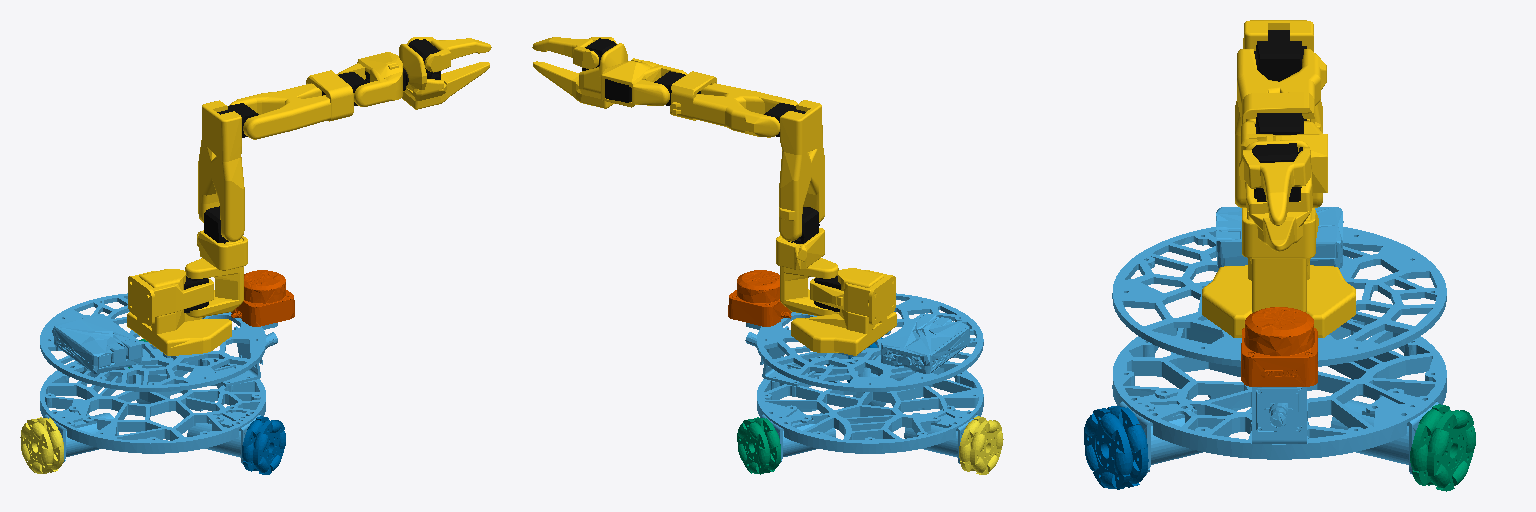
robot.urdf — mmr_bot:
<?xml version="1.0"?>
<robot name="mmr_bot">
  <link name="base_footprint" />
  <joint name="base_footprint_joint" type="fixed">
    <origin xyz="0 0 0.045" rpy="0 0 0" />
    <parent link="base_footprint" />
    <child link="base_link" />
  </joint>
  <link name="base_link">
    <visual>
      <origin xyz="0 0 0" rpy="0 0 0" />
      <geometry>
        <mesh filename="package://mmr_pkg/meshes/visual/base_link.obj" />
      </geometry>
    </visual>
    <collision>
      <origin xyz="0 0 0.006" rpy="0 0 0" />
      <geometry>
        <cylinder radius="0.12" length="0.012" />
      </geometry>
    </collision>
    <collision>
      <origin xyz="0 0 0.0745" rpy="0 0 0" />
      <geometry>
        <cylinder radius="0.12" length="0.005" />
      </geometry>
    </collision>
    <collision>
      <origin xyz="0 0 0" rpy="0 0 1.0471975511965976" />
      <geometry>
        <mesh filename="package://mmr_pkg/meshes/collision/motor_pod.stl" />
      </geometry>
    </collision>
    <collision>
      <origin xyz="0 0 0" rpy="0 0 3.141592653589793" />
      <geometry>
        <mesh filename="package://mmr_pkg/meshes/collision/motor_pod.stl" />
      </geometry>
    </collision>
    <collision>
      <origin xyz="0 0 0" rpy="0 0 5.235987755982989" />
      <geometry>
        <mesh filename="package://mmr_pkg/meshes/collision/motor_pod.stl" />
      </geometry>
    </collision>
    <collision>
      <origin xyz="0 0 0" rpy="0 0 0" />
      <geometry>
        <mesh filename="package://mmr_pkg/meshes/collision/camera_pod.stl" />
      </geometry>
    </collision>
    <collision>
      <origin xyz="0 0 0" rpy="0 0 0" />
      <geometry>
        <mesh filename="package://mmr_pkg/meshes/collision/pi_stack.stl" />
      </geometry>
    </collision>
  </link>
  <joint name="wheel_0_joint" type="continuous">
    <origin xyz="0.06775000000000002                    0.11734644221279143                    -0.015" rpy="0 0 1.0471975511965976" />
    <parent link="base_link" />
    <child link="wheel_0_link" />
    <axis xyz="1 0 0" />
  </joint>
  <link name="wheel_0_link">
    <visual>
      <origin xyz="0 0 0" rpy="0 0 0" />
      <geometry>
        <mesh filename="package://mmr_pkg/meshes/visual/wheel.obj" />
      </geometry>
    </visual>
    <collision>
      <origin xyz="0 0 0" rpy="0 1.5707963267948966 0" />
      <geometry>
        <cylinder radius="0.03" length="0.019" />
      </geometry>
    </collision>
  </link>
  <joint name="wheel_1_joint" type="continuous">
    <origin xyz="-0.1355                    1.6593964128446636e-17                    -0.015" rpy="0 0 3.141592653589793" />
    <parent link="base_link" />
    <child link="wheel_1_link" />
    <axis xyz="1 0 0" />
  </joint>
  <link name="wheel_1_link">
    <visual>
      <origin xyz="0 0 0" rpy="0 0 0" />
      <geometry>
        <mesh filename="package://mmr_pkg/meshes/visual/wheel.obj" />
      </geometry>
    </visual>
    <collision>
      <origin xyz="0 0 0" rpy="0 1.5707963267948966 0" />
      <geometry>
        <cylinder radius="0.03" length="0.019" />
      </geometry>
    </collision>
  </link>
  <joint name="wheel_2_joint" type="continuous">
    <origin xyz="0.06775000000000002                    -0.11734644221279143                    -0.015" rpy="0 0 5.235987755982989" />
    <parent link="base_link" />
    <child link="wheel_2_link" />
    <axis xyz="1 0 0" />
  </joint>
  <link name="wheel_2_link">
    <visual>
      <origin xyz="0 0 0" rpy="0 0 0" />
      <geometry>
        <mesh filename="package://mmr_pkg/meshes/visual/wheel.obj" />
      </geometry>
    </visual>
    <collision>
      <origin xyz="0 0 0" rpy="0 1.5707963267948966 0" />
      <geometry>
        <cylinder radius="0.03" length="0.019" />
      </geometry>
    </collision>
  </link>
  <joint name="laser_joint" type="fixed">
    <origin xyz="0.133781 4e-06 0.10518" rpy="0 0 0" />
    <parent link="base_link" />
    <child link="laser_frame" />
  </joint>
  <link name="laser_frame">
    <visual>
      <origin xyz="0 0 0" rpy="0 0 0" />
      <geometry>
        <mesh filename="package://mmr_pkg/meshes/visual/rplidar_c1.obj" />
      </geometry>
    </visual>
    <collision>
      <origin xyz="0 0 0" rpy="0 0 0" />
      <geometry>
        <mesh filename="package://mmr_pkg/meshes/collision/rplidar_c1.stl" />
      </geometry>
    </collision>
  </link>
  <material name="3d_printed">
    <color rgba="1.0 0.82 0.12 1.0" />
  </material>
  <material name="sts3215">
    <color rgba="0.1 0.1 0.1 1.0" />
  </material>
  <joint name="arm_base_joint" type="fixed">
    <origin xyz="0.014091 -0.000442 0.0792" rpy="0 0 0" />
    <parent link="base_link" />
    <child link="arm_base_link" />
  </joint>
  <link name="arm_base_link">
    <inertial>
      <origin xyz="0.0137179 -5.19711e-05 0.0334843" rpy="0 0 0" />
      <mass value="0.147" />
      <inertia ixx="0.000114686" ixy="-4.59787e-07" ixz="4.97151e-06" iyy="0.000136117" iyz="9.75275e-08" izz="0.000130364" />
    </inertial>
    <visual>
      <origin xyz="-0.00636471 -9.94414e-05 -0.0024" rpy="1.5708 -1.67685e-15 1.5708" />
      <geometry>
        <mesh filename="package://mmr_pkg/meshes/arm/base_motor_holder_so101_v1.stl" />
      </geometry>
      <material name="3d_printed" />
    </visual>
    <collision>
      <origin xyz="-0.00636471 -9.94414e-05 -0.0024" rpy="1.5708 -1.67685e-15 1.5708" />
      <geometry>
        <mesh filename="package://mmr_pkg/meshes/collision/arm/base_motor_holder_so101_v1.stl" />
      </geometry>
    </collision>
    <visual>
      <origin xyz="-0.00636471 -8.97657e-09 -0.0024" rpy="1.5708 -2.78073e-29 1.5708" />
      <geometry>
        <mesh filename="package://mmr_pkg/meshes/arm/base_so101_v2.stl" />
      </geometry>
      <material name="3d_printed" />
    </visual>
    <collision>
      <origin xyz="-0.00636471 -8.97657e-09 -0.0024" rpy="1.5708 -2.78073e-29 1.5708" />
      <geometry>
        <mesh filename="package://mmr_pkg/meshes/collision/arm/base_so101_v2.stl" />
      </geometry>
    </collision>
    <visual>
      <origin xyz="0.0263353 -8.97657e-09 0.0437" rpy="-8.21148e-16 7.84513e-18 1.249e-15" />
      <geometry>
        <mesh filename="package://mmr_pkg/meshes/arm/sts3215_03a_v1.stl" />
      </geometry>
      <material name="sts3215" />
    </visual>
    <collision>
      <origin xyz="0.0263353 -8.97657e-09 0.0437" rpy="-8.21148e-16 7.84513e-18 1.249e-15" />
      <geometry>
        <mesh filename="package://mmr_pkg/meshes/collision/arm/sts3215_03a_v1.stl" />
      </geometry>
    </collision>
    <visual>
      <origin xyz="-0.0309827 -0.000199441 0.0474" rpy="1.5708 -1.35493e-14 1.5708" />
      <geometry>
        <mesh filename="package://mmr_pkg/meshes/arm/waveshare_mounting_plate_so101_v2.stl" />
      </geometry>
      <material name="3d_printed" />
    </visual>
    <collision>
      <origin xyz="-0.0309827 -0.000199441 0.0474" rpy="1.5708 -1.35493e-14 1.5708" />
      <geometry>
        <mesh filename="package://mmr_pkg/meshes/collision/arm/waveshare_mounting_plate_so101_v2.stl" />
      </geometry>
    </collision>
  </link>
  <link name="arm_shoulder_link">
    <inertial>
      <origin xyz="-0.0307604 -1.66727e-05 -0.0252713" rpy="0 0 0" />
      <mass value="0.100006" />
      <inertia ixx="8.3759e-05" ixy="7.55525e-08" ixz="-1.16342e-06" iyy="8.10403e-05" iyz="1.54663e-07" izz="2.39783e-05" />
    </inertial>
    <visual>
      <origin xyz="-0.0303992 0.000422241 -0.0417" rpy="1.5708 1.5708 0" />
      <geometry>
        <mesh filename="package://mmr_pkg/meshes/arm/sts3215_03a_v1.stl" />
      </geometry>
      <material name="sts3215" />
    </visual>
    <collision>
      <origin xyz="-0.0303992 0.000422241 -0.0417" rpy="1.5708 1.5708 0" />
      <geometry>
        <mesh filename="package://mmr_pkg/meshes/collision/arm/sts3215_03a_v1.stl" />
      </geometry>
    </collision>
    <visual>
      <origin xyz="-0.0675992 -0.000177759 0.0158499" rpy="1.5708 -1.5708 0" />
      <geometry>
        <mesh filename="package://mmr_pkg/meshes/arm/motor_holder_so101_base_v1.stl" />
      </geometry>
      <material name="3d_printed" />
    </visual>
    <collision>
      <origin xyz="-0.0675992 -0.000177759 0.0158499" rpy="1.5708 -1.5708 0" />
      <geometry>
        <mesh filename="package://mmr_pkg/meshes/collision/arm/motor_holder_so101_base_v1.stl" />
      </geometry>
    </collision>
    <visual>
      <origin xyz="0.0122008 2.22413e-05 0.0464" rpy="-1.5708 2.35221e-33 0" />
      <geometry>
        <mesh filename="package://mmr_pkg/meshes/arm/rotation_pitch_so101_v1.stl" />
      </geometry>
      <material name="3d_printed" />
    </visual>
    <collision>
      <origin xyz="0.0122008 2.22413e-05 0.0464" rpy="-1.5708 2.35221e-33 0" />
      <geometry>
        <mesh filename="package://mmr_pkg/meshes/collision/arm/rotation_pitch_so101_v1.stl" />
      </geometry>
    </collision>
  </link>
  <link name="arm_upper_arm_link">
    <inertial>
      <origin xyz="-0.0898471 -0.00838224 0.0184089" rpy="0 0 0" />
      <mass value="0.103" />
      <inertia ixx="4.08002e-05" ixy="-1.97819e-05" ixz="-4.03016e-08" iyy="0.000147318" iyz="8.97326e-09" izz="0.000142487" />
    </inertial>
    <visual>
      <origin xyz="-0.11257 -0.0155 0.0187" rpy="-3.14159 -5.27356e-16 -1.5708" />
      <geometry>
        <mesh filename="package://mmr_pkg/meshes/arm/sts3215_03a_v1.stl" />
      </geometry>
      <material name="sts3215" />
    </visual>
    <collision>
      <origin xyz="-0.11257 -0.0155 0.0187" rpy="-3.14159 -5.27356e-16 -1.5708" />
      <geometry>
        <mesh filename="package://mmr_pkg/meshes/collision/arm/sts3215_03a_v1.stl" />
      </geometry>
    </collision>
    <visual>
      <origin xyz="-0.065085 0.012 0.0182" rpy="3.14159 -0 -1.30911e-30" />
      <geometry>
        <mesh filename="package://mmr_pkg/meshes/arm/upper_arm_so101_v1.stl" />
      </geometry>
      <material name="3d_printed" />
    </visual>
    <collision>
      <origin xyz="-0.065085 0.012 0.0182" rpy="3.14159 -0 -1.30911e-30" />
      <geometry>
        <mesh filename="package://mmr_pkg/meshes/collision/arm/upper_arm_so101_v1.stl" />
      </geometry>
    </collision>
  </link>
  <link name="arm_lower_arm_link">
    <inertial>
      <origin xyz="-0.0980701 0.00324376 0.0182831" rpy="0 0 0" />
      <mass value="0.104" />
      <inertia ixx="2.87438e-05" ixy="7.41152e-06" ixz="1.26409e-06" iyy="0.000159844" iyz="-4.90188e-08" izz="0.00014529" />
    </inertial>
    <visual>
      <origin xyz="-0.0648499 -0.032 0.0182" rpy="3.14159 -0 6.67202e-31" />
      <geometry>
        <mesh filename="package://mmr_pkg/meshes/arm/under_arm_so101_v1.stl" />
      </geometry>
      <material name="3d_printed" />
    </visual>
    <collision>
      <origin xyz="-0.0648499 -0.032 0.0182" rpy="3.14159 -0 6.67202e-31" />
      <geometry>
        <mesh filename="package://mmr_pkg/meshes/collision/arm/under_arm_so101_v1.stl" />
      </geometry>
    </collision>
    <visual>
      <origin xyz="-0.0648499 -0.032 0.018" rpy="-3.14159 -2.55351e-15 -1.83387e-30" />
      <geometry>
        <mesh filename="package://mmr_pkg/meshes/arm/motor_holder_so101_wrist_v1.stl" />
      </geometry>
      <material name="3d_printed" />
    </visual>
    <collision>
      <origin xyz="-0.0648499 -0.032 0.018" rpy="-3.14159 -2.55351e-15 -1.83387e-30" />
      <geometry>
        <mesh filename="package://mmr_pkg/meshes/collision/arm/motor_holder_so101_wrist_v1.stl" />
      </geometry>
    </collision>
    <visual>
      <origin xyz="-0.1224 0.0052 0.0187" rpy="-3.14159 -7.88861e-31 -3.14159" />
      <geometry>
        <mesh filename="package://mmr_pkg/meshes/arm/sts3215_03a_v1.stl" />
      </geometry>
      <material name="sts3215" />
    </visual>
    <collision>
      <origin xyz="-0.1224 0.0052 0.0187" rpy="-3.14159 -7.88861e-31 -3.14159" />
      <geometry>
        <mesh filename="package://mmr_pkg/meshes/collision/arm/sts3215_03a_v1.stl" />
      </geometry>
    </collision>
  </link>
  <link name="arm_wrist_link">
    <inertial>
      <origin xyz="-0.000103312 -0.0386143 0.0281156" rpy="0 0 0" />
      <mass value="0.079" />
      <inertia ixx="3.68263e-05" ixy="1.7893e-08" ixz="-5.28128e-08" iyy="2.5391e-05" iyz="3.6412e-06" izz="2.1e-05" />
    </inertial>
    <visual>
      <origin xyz="8.32667e-17 -0.0424 0.0306" rpy="1.5708 1.5708 0" />
      <geometry>
        <mesh filename="package://mmr_pkg/meshes/arm/sts3215_03a_no_horn_v1.stl" />
      </geometry>
      <material name="sts3215" />
    </visual>
    <collision>
      <origin xyz="8.32667e-17 -0.0424 0.0306" rpy="1.5708 1.5708 0" />
      <geometry>
        <mesh filename="package://mmr_pkg/meshes/collision/arm/sts3215_03a_no_horn_v1.stl" />
      </geometry>
    </collision>
    <visual>
      <origin xyz="0 -0.028 0.0181" rpy="-1.5708 -1.5708 0" />
      <geometry>
        <mesh filename="package://mmr_pkg/meshes/arm/wrist_roll_pitch_so101_v2.stl" />
      </geometry>
      <material name="3d_printed" />
    </visual>
    <collision>
      <origin xyz="0 -0.028 0.0181" rpy="-1.5708 -1.5708 0" />
      <geometry>
        <mesh filename="package://mmr_pkg/meshes/collision/arm/wrist_roll_pitch_so101_v2.stl" />
      </geometry>
    </collision>
  </link>
  <link name="arm_gripper_link">
    <inertial>
      <origin xyz="0.000213627 0.000245138 -0.025187" rpy="0 0 0" />
      <mass value="0.087" />
      <inertia ixx="2.75087e-05" ixy="-3.35241e-07" ixz="-5.7352e-06" iyy="4.33657e-05" iyz="-5.17847e-08" izz="3.45059e-05" />
    </inertial>
    <visual>
      <origin xyz="0.0077 0.0001 -0.0234" rpy="-1.5708 -5.19179e-17 -1.66533e-16" />
      <geometry>
        <mesh filename="package://mmr_pkg/meshes/arm/sts3215_03a_v1.stl" />
      </geometry>
      <material name="sts3215" />
    </visual>
    <collision>
      <origin xyz="0.0077 0.0001 -0.0234" rpy="-1.5708 -5.19179e-17 -1.66533e-16" />
      <geometry>
        <mesh filename="package://mmr_pkg/meshes/collision/arm/sts3215_03a_v1.stl" />
      </geometry>
    </collision>
    <visual>
      <origin xyz="8.32667e-17 -0.000218214 0.000949706" rpy="-3.14159 -5.55112e-17 0" />
      <geometry>
        <mesh filename="package://mmr_pkg/meshes/arm/wrist_roll_follower_so101_v1.stl" />
      </geometry>
      <material name="3d_printed" />
    </visual>
    <collision>
      <origin xyz="8.32667e-17 -0.000218214 0.000949706" rpy="-3.14159 -5.55112e-17 0" />
      <geometry>
        <mesh filename="package://mmr_pkg/meshes/collision/arm/wrist_roll_follower_so101_v1.stl" />
      </geometry>
    </collision>
  </link>
  <link name="arm_gripper_frame_link">
    <inertial>
      <origin xyz="0 0 0" rpy="0 0 0" />
      <mass value="1e-9" />
      <inertia ixx="0" ixy="0" ixz="0" iyy="0" iyz="0" izz="0" />
    </inertial>
  </link>
  <joint name="gripper_frame_joint" type="fixed">
    <origin xyz="-0.0079 -0.000218121 -0.0981274" rpy="0 3.14159 0" />
    <parent link="arm_gripper_link" />
    <child link="arm_gripper_frame_link" />
    <axis xyz="0 0 0" />
  </joint>
  <link name="arm_moving_jaw_so101_v1_link">
    <inertial>
      <origin xyz="-0.00157495 -0.0300244 0.0192755" rpy="0 0 0" />
      <mass value="0.012" />
      <inertia ixx="6.61427e-06" ixy="-3.19807e-07" ixz="-5.90717e-09" iyy="1.89032e-06" iyz="-1.09945e-07" izz="5.28738e-06" />
    </inertial>
    <visual>
      <origin xyz="-5.55112e-17 -5.55112e-17 0.0189" rpy="9.53145e-17 6.93889e-18 1.24077e-24" />
      <geometry>
        <mesh filename="package://mmr_pkg/meshes/arm/moving_jaw_so101_v1.stl" />
      </geometry>
      <material name="3d_printed" />
    </visual>
    <collision>
      <origin xyz="-5.55112e-17 -5.55112e-17 0.0189" rpy="9.53145e-17 6.93889e-18 1.24077e-24" />
      <geometry>
        <mesh filename="package://mmr_pkg/meshes/collision/arm/moving_jaw_so101_v1.stl" />
      </geometry>
    </collision>
  </link>
  <joint name="gripper" type="revolute">
    <origin xyz="0.0202 0.0188 -0.0234" rpy="1.5708 -5.24284e-08 -1.41553e-15" />
    <parent link="arm_gripper_link" />
    <child link="arm_moving_jaw_so101_v1_link" />
    <axis xyz="0 0 1" />
    <limit effort="10" velocity="10" lower="-0.174533" upper="1.74533" />
  </joint>
  <joint name="wrist_roll" type="revolute">
    <origin xyz="5.55112e-17 -0.0611 0.0181" rpy="1.5708 0.0486795 3.14159" />
    <parent link="arm_wrist_link" />
    <child link="arm_gripper_link" />
    <axis xyz="0 0 1" />
    <limit effort="10" velocity="10" lower="-2.74385" upper="2.84121" />
  </joint>
  <joint name="wrist_flex" type="revolute">
    <origin xyz="-0.1349 0.0052 3.62355e-17" rpy="4.02456e-15 8.67362e-16 -1.5708" />
    <parent link="arm_lower_arm_link" />
    <child link="arm_wrist_link" />
    <axis xyz="0 0 1" />
    <limit effort="10" velocity="10" lower="-1.65806" upper="1.65806" />
  </joint>
  <joint name="elbow_flex" type="revolute">
    <origin xyz="-0.11257 -0.028 1.73763e-16" rpy="-3.63608e-16 8.74301e-16 1.5708" />
    <parent link="arm_upper_arm_link" />
    <child link="arm_lower_arm_link" />
    <axis xyz="0 0 1" />
    <limit effort="10" velocity="10" lower="-1.69" upper="1.69" />
  </joint>
  <joint name="shoulder_lift" type="revolute">
    <origin xyz="-0.0303992 -0.0182778 -0.0542" rpy="-1.5708 -1.5708 0" />
    <parent link="arm_shoulder_link" />
    <child link="arm_upper_arm_link" />
    <axis xyz="0 0 1" />
    <limit effort="10" velocity="10" lower="-1.74533" upper="1.74533" />
  </joint>
  <joint name="shoulder_pan" type="revolute">
    <origin xyz="0.0388353 -8.97657e-09 0.0624" rpy="3.14159 4.18253e-17 -3.14159" />
    <parent link="arm_base_link" />
    <child link="arm_shoulder_link" />
    <axis xyz="0 0 1" />
    <limit effort="10" velocity="10" lower="-1.91986" upper="1.91986" />
  </joint>
</robot>

--- Facts derived from the render (not from the file) ---
The picture shows the robot from 3 angles, left to right: view 1: azimuth 30°, elevation 25°; view 2: azimuth 150°, elevation 25°; view 3: azimuth 270°, elevation 25°; orthographic projection.
Robot: mmr_bot — 14 links, 13 joints (6 revolute, 3 continuous, 4 fixed); root link base_footprint; default pose: every joint at zero.
Visible links, largest first — view 1: base_link, arm_base_link, arm_upper_arm_link, arm_lower_arm_link, arm_shoulder_link, arm_gripper_link, laser_frame, arm_wrist_link, wheel_2_link, wheel_1_link, arm_moving_jaw_so101_v1_link; view 2: base_link, arm_base_link, arm_upper_arm_link, arm_lower_arm_link, arm_shoulder_link, arm_wrist_link, laser_frame, arm_gripper_link, wheel_0_link, wheel_1_link, arm_moving_jaw_so101_v1_link; view 3: base_link, laser_frame, arm_base_link, arm_lower_arm_link, arm_shoulder_link, wheel_0_link, wheel_2_link, arm_upper_arm_link, arm_gripper_link, arm_moving_jaw_so101_v1_link, arm_wrist_link.
Link boxes in pixels (<box>): base_link: <box>40,293,277,463</box>; arm_base_link: <box>127,269,231,355</box>; arm_upper_arm_link: <box>198,100,258,241</box>; arm_lower_arm_link: <box>229,70,367,139</box>; arm_shoulder_link: <box>185,206,247,317</box>; arm_gripper_link: <box>399,39,489,109</box>; laser_frame: <box>231,270,294,326</box>; arm_wrist_link: <box>337,52,408,106</box>; wheel_2_link: <box>242,416,285,474</box>; wheel_1_link: <box>20,417,63,473</box>; arm_moving_jaw_so101_v1_link: <box>407,37,491,72</box>; base_link: <box>745,293,983,463</box>; arm_base_link: <box>791,268,896,355</box>; arm_upper_arm_link: <box>764,100,824,241</box>; arm_lower_arm_link: <box>654,71,797,137</box>; arm_shoulder_link: <box>776,207,838,315</box>; arm_wrist_link: <box>601,58,686,107</box>; laser_frame: <box>728,270,791,326</box>; arm_gripper_link: <box>533,38,627,108</box>; wheel_0_link: <box>737,417,780,474</box>; wheel_1_link: <box>959,416,1003,474</box>; arm_moving_jaw_so101_v1_link: <box>532,37,616,68</box>; base_link: <box>1112,207,1446,474</box>; laser_frame: <box>1241,307,1317,386</box>; arm_base_link: <box>1202,258,1355,337</box>; arm_lower_arm_link: <box>1237,49,1326,134</box>; arm_shoulder_link: <box>1242,208,1318,312</box>; wheel_0_link: <box>1410,404,1475,491</box>; wheel_2_link: <box>1084,406,1148,489</box>; arm_upper_arm_link: <box>1235,20,1322,207</box>; arm_gripper_link: <box>1239,140,1312,251</box>; arm_moving_jaw_so101_v1_link: <box>1243,147,1310,225</box>; arm_wrist_link: <box>1241,121,1327,192</box>.
Bounding box of the posed robot: 0.5619 × 0.2817 × 0.3899 m (x, y, z).
Meshes: 16 distinct files referenced, 22 mesh visuals loaded (13 binary STL, 3 OBJ).
